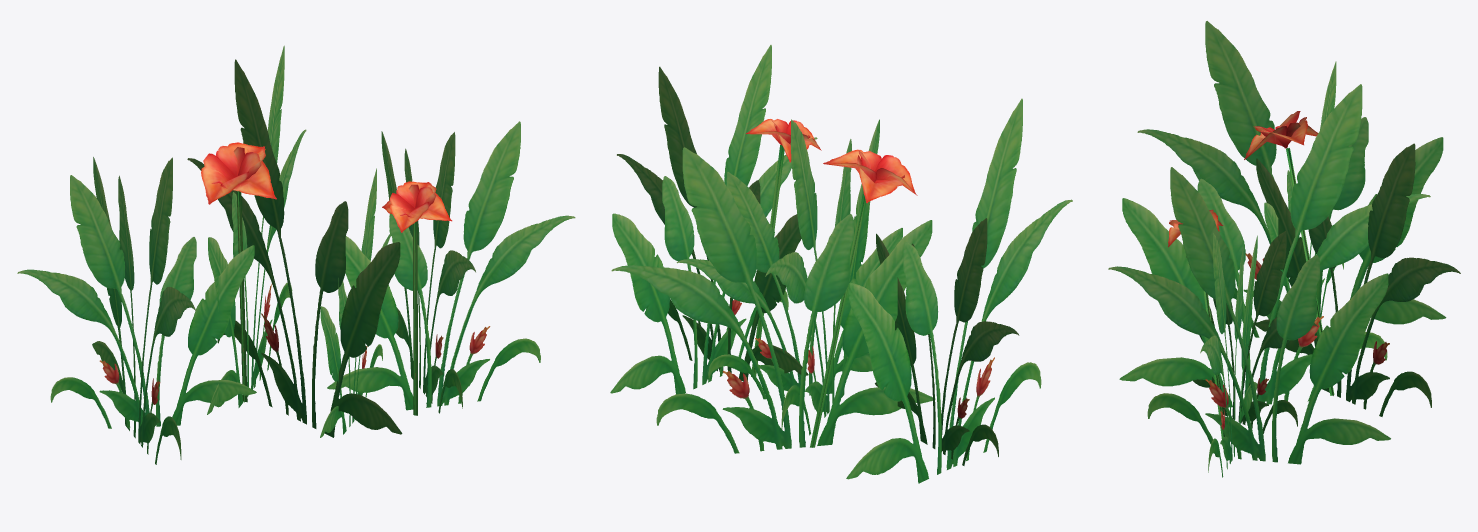
Rendered from area_07_2.FBX.
3 renders of one model, left to right at view 1: azimuth 30°, elevation 25°; view 2: azimuth 150°, elevation 25°; view 3: azimuth 270°, elevation 25°, orthographic. The views are drawn at different scales.
Parts seen in each view (by area): view 1: area_07_2; view 2: area_07_2; view 3: area_07_2.
Boxes of the visible parts, x1,y1,x2,y2 form: area_07_2: (17,45,575,464); area_07_2: (610,45,1072,483); area_07_2: (1108,21,1460,477).
Size of the model in its own units: 2.34 by 1.55 by 1.59.
